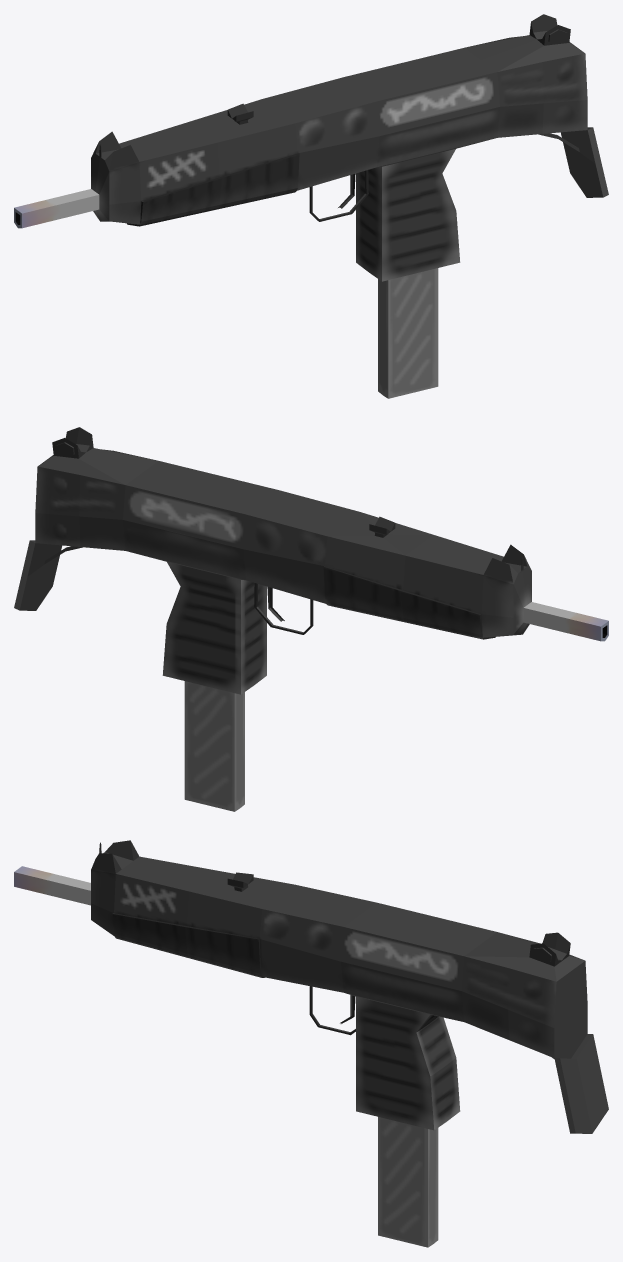
Rendered from GDW Uzi.fbx.
3 views of the same model, one above another, from view 1: azimuth 30°, elevation 25°; view 2: azimuth 150°, elevation 25°; view 3: azimuth 330°, elevation 25° (orthographic).
Visible parts, largest first — view 1: Cylinder; view 2: Cylinder; view 3: Cylinder.
Boxes of the visible parts, x1,y1,x2,y2 form: Cylinder: (14, 14, 608, 398); Cylinder: (14, 427, 608, 811); Cylinder: (14, 840, 608, 1247).
Bounding box in the file's own units: 122 × 67.75 × 15.02.
